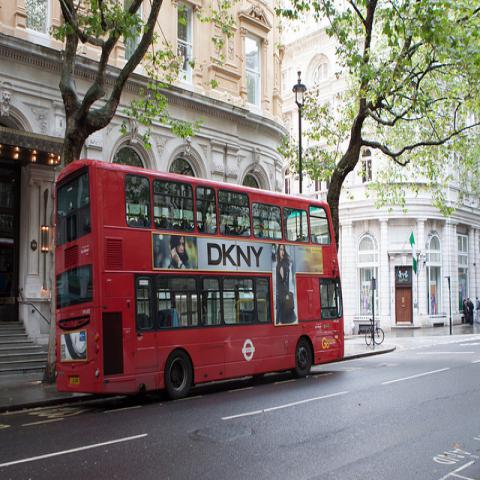bus: (55, 160, 343, 403)
